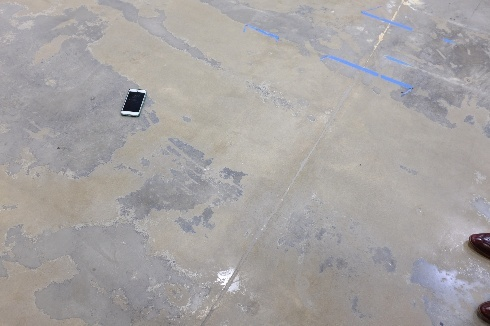phone: (110, 87, 159, 119)
